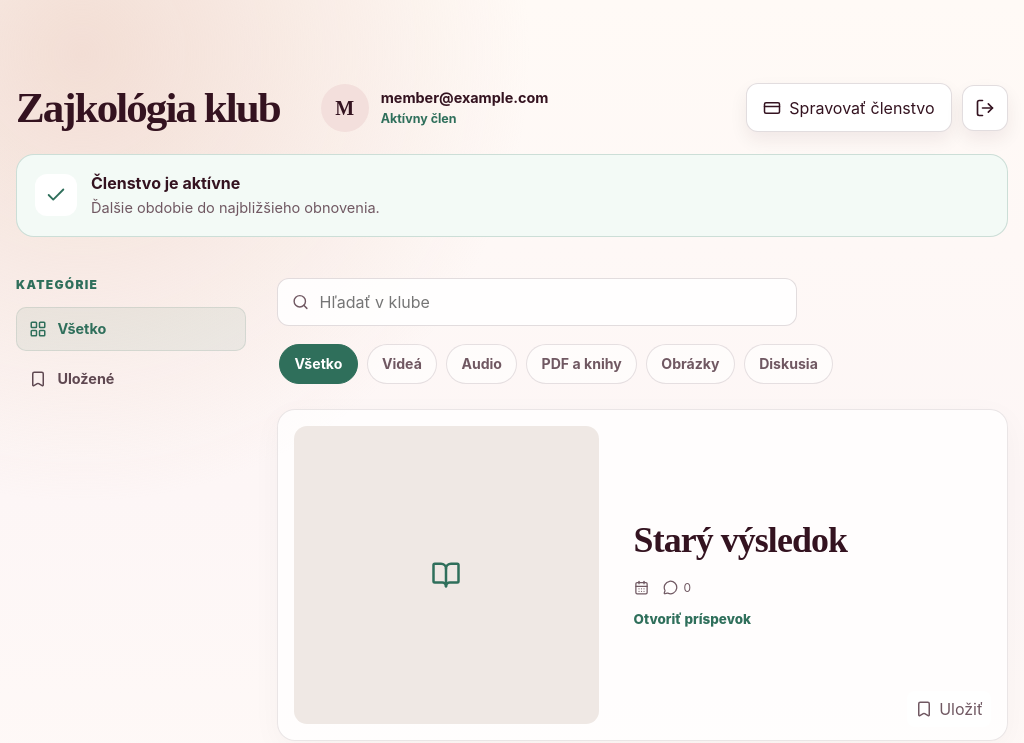
it: Membership › resets paginated results for a new Slovak search and only renders the new page
Expected: the heading "Starý výsledok" is shown, [634,520,847,560]
Type "zajačik" into the search field labelled "Hľadať v klube" at (550, 302), box [320,278,781,324]
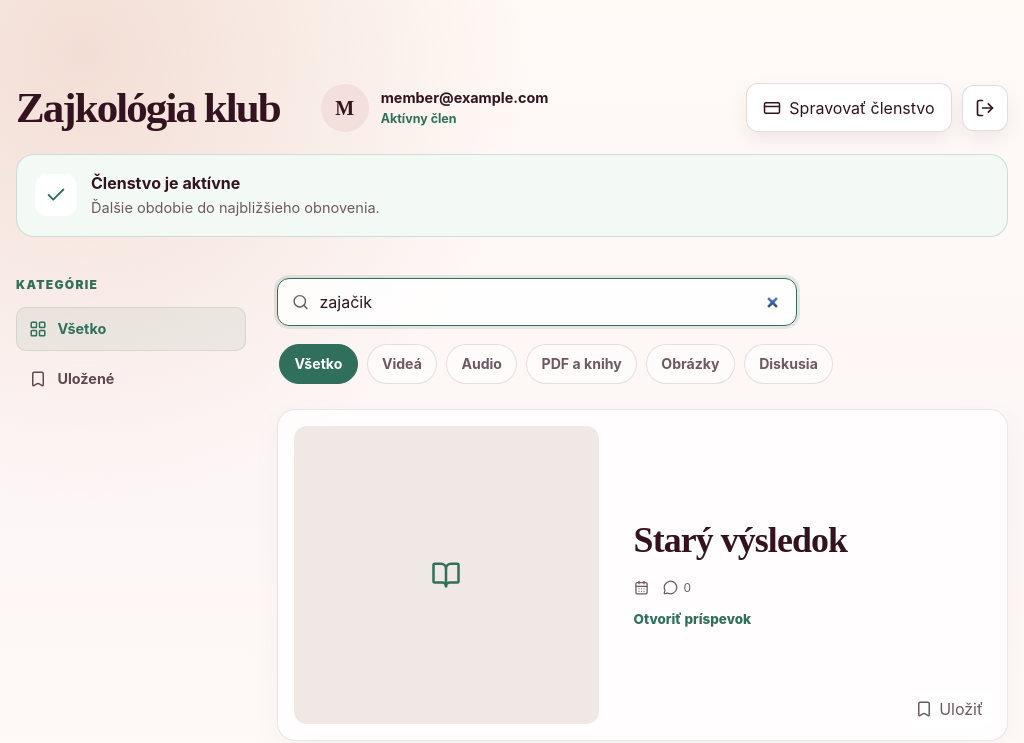
Press Enter
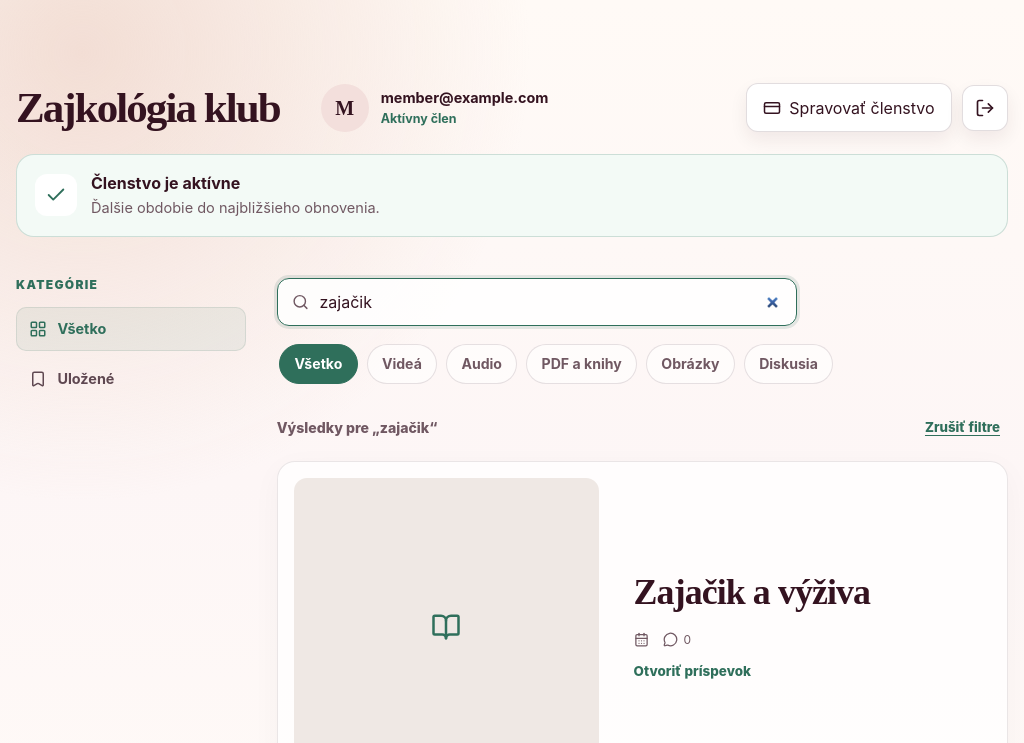
Result: the heading "Zajačik a výživa" is shown at [634,572,870,612]
Result: the link "Starý výsledok" is gone
